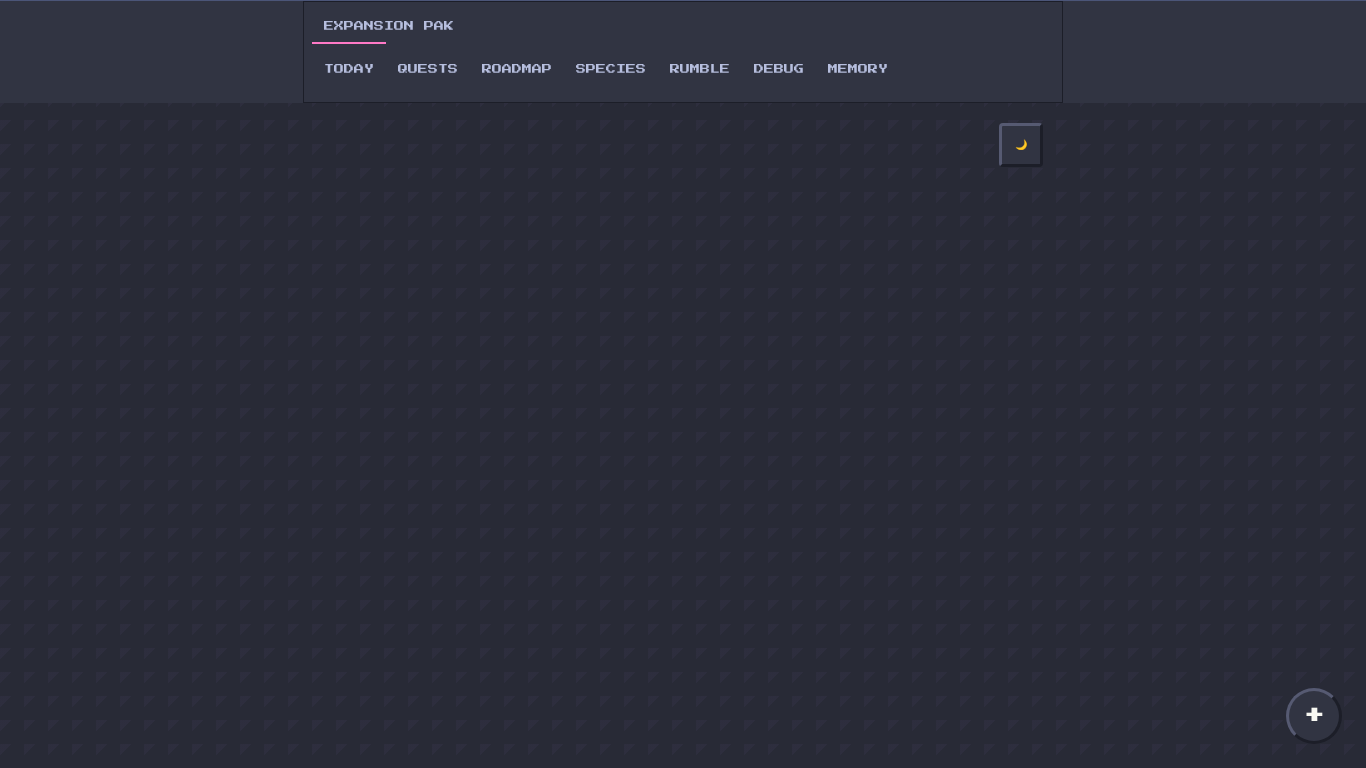
Scenario: Pak shell › navigates to Rumble and renders its purpose
This screenshot has width=1366, height=768.
Step 1. Click the link "RUMBLE" → [700, 69], box x1=670 y1=64 x2=730 y2=74
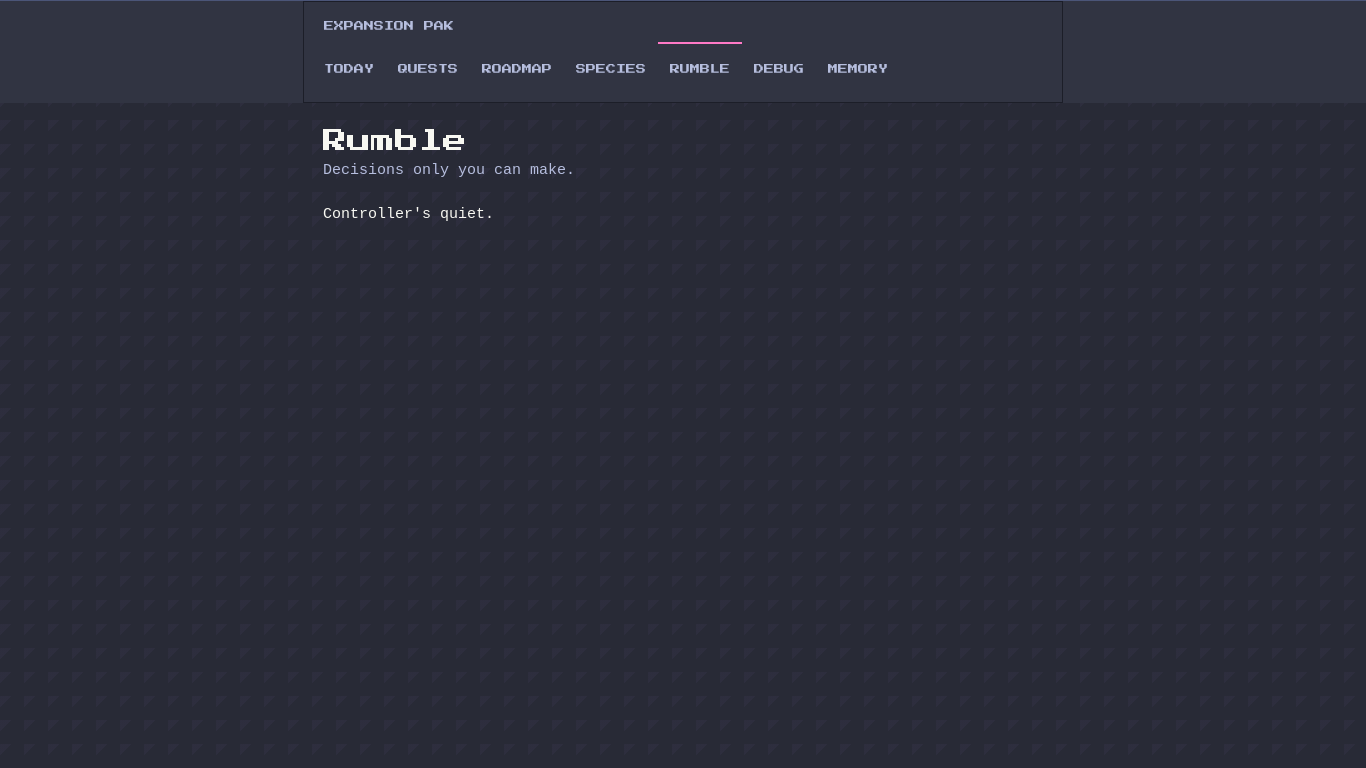
Expected: the heading "Rumble" is shown, x1=323 y1=129 x2=467 y2=153
Expected: the text "Decisions only you can make." is shown, x1=323 y1=162 x2=575 y2=179
